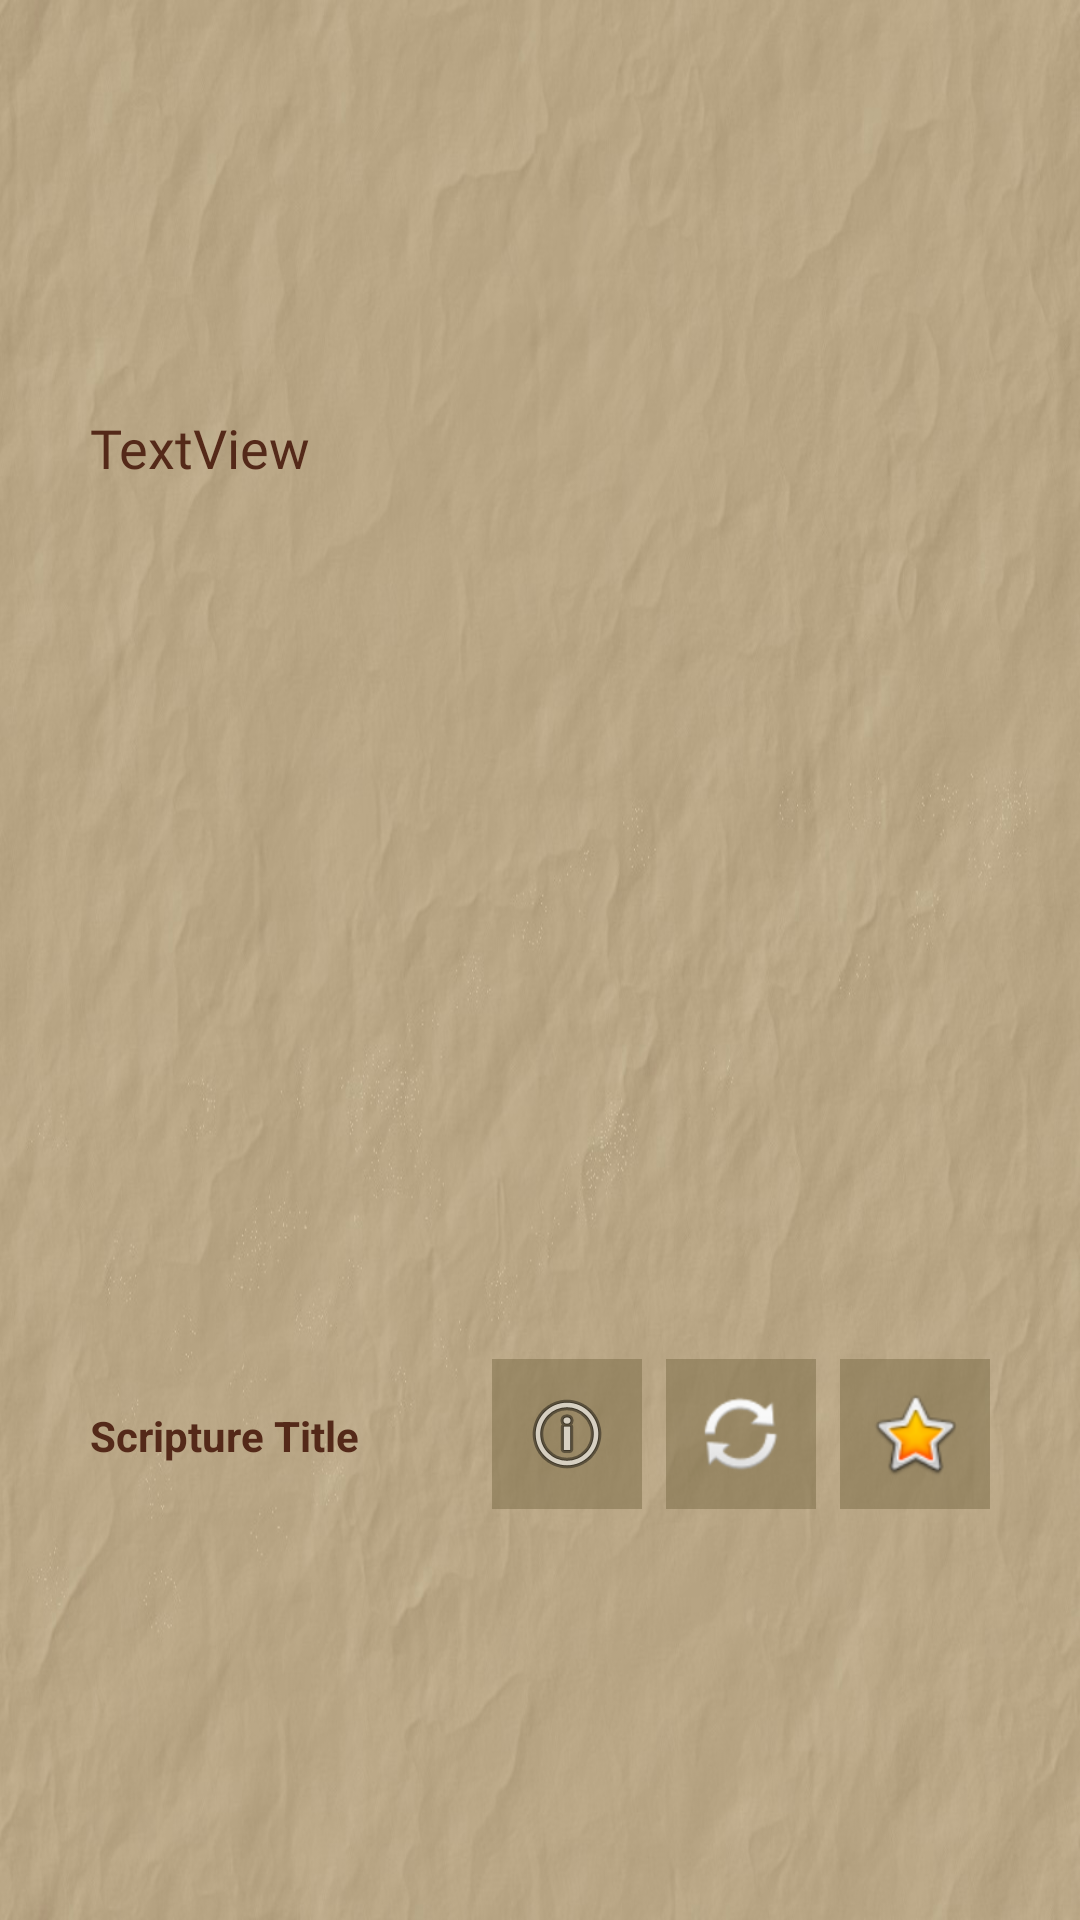

Where icons sit on this 1080px×1920px app screen, as rect(x1, y1, x2, y2):
info details: rect(492, 1359, 642, 1509)
popup sync: rect(666, 1359, 816, 1509)
star on: rect(840, 1359, 990, 1509)
